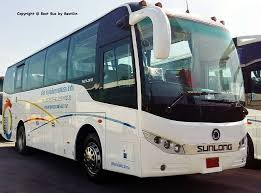bus: (3, 2, 248, 182)
